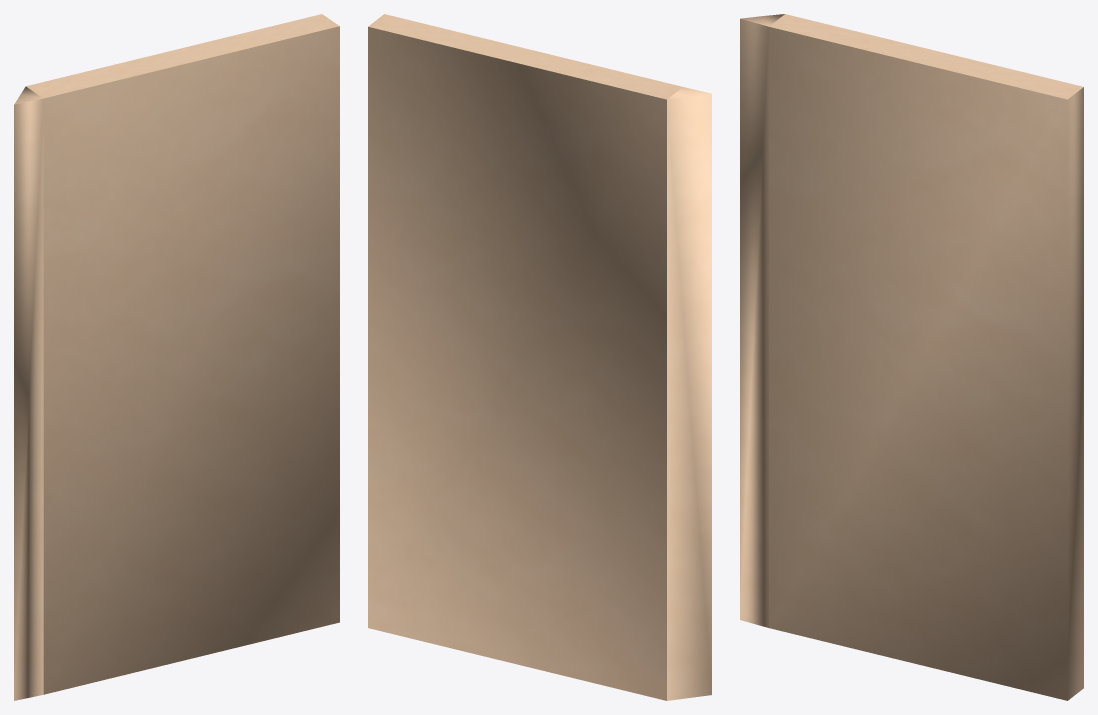
Rendered from Door_Panel_D.fbx.
3 views of the same model, side by side, from view 1: azimuth 30°, elevation 25°; view 2: azimuth 150°, elevation 25°; view 3: azimuth 330°, elevation 25° (orthographic).
Visible parts, largest first — view 1: Door_Panel_D; view 2: Door_Panel_D; view 3: Door_Panel_D.
Boxes of the visible parts, bbox=[...] form: Door_Panel_D: bbox=[14, 14, 339, 700]; Door_Panel_D: bbox=[368, 14, 711, 700]; Door_Panel_D: bbox=[740, 14, 1083, 700].
Bounding box in the file's own units: 1.11 × 1.94 × 0.1.
Materials: 1 (1 with a texture image).
